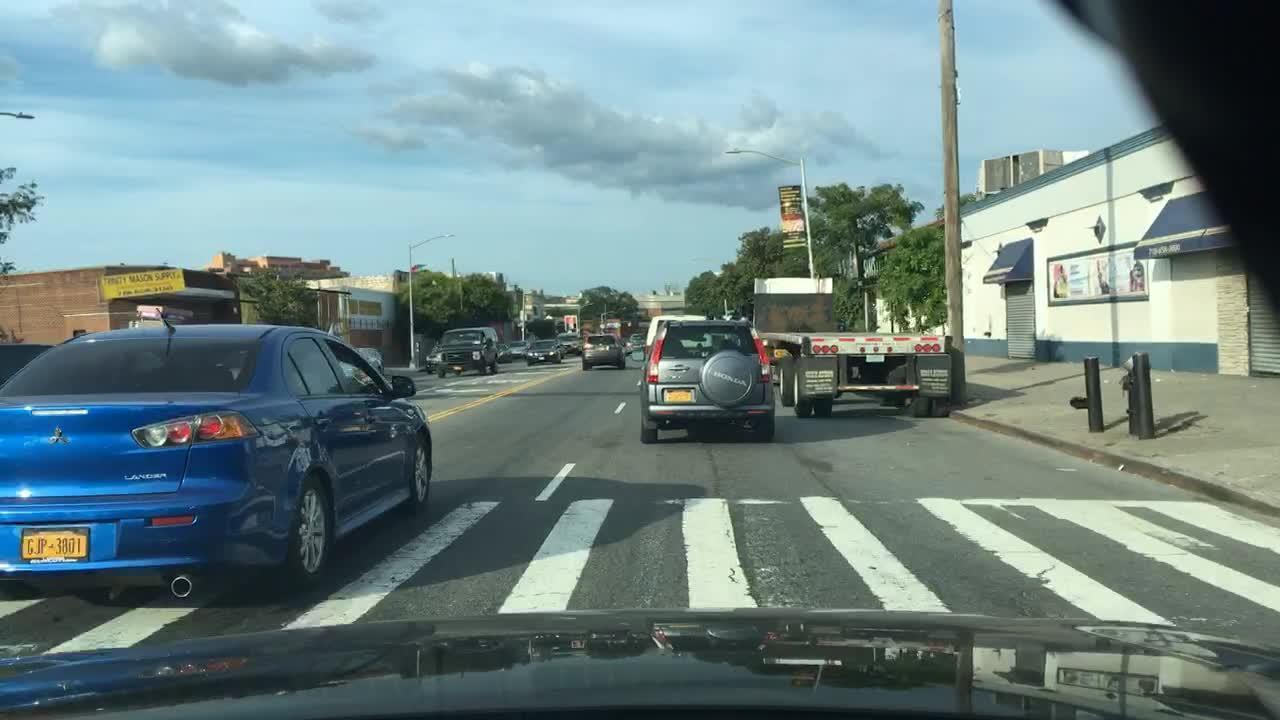Mitsubishi: (37, 420, 86, 460)
